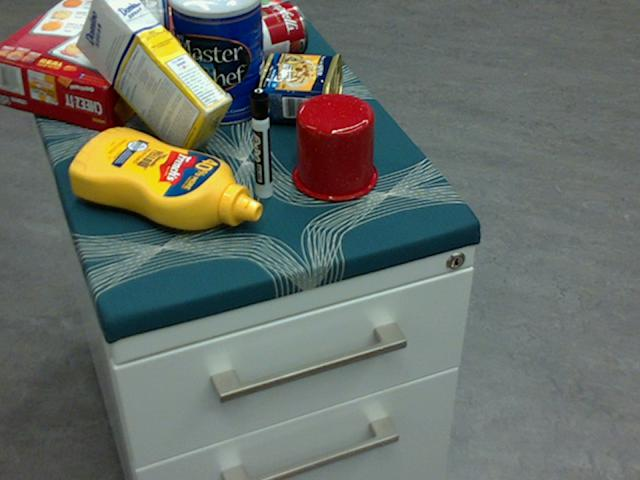cracker_box: (0, 0, 200, 134)
gelatin_box: (214, 0, 285, 38)
large_marker: (250, 88, 271, 196)
master_chef_can: (168, 0, 264, 125)
mug: (289, 92, 376, 201)
mustard_bottle: (68, 128, 262, 229)
potted_meat_can: (257, 50, 341, 128)
sugar_box: (77, 0, 234, 160)
tomato_soup_can: (212, 0, 308, 71)
tuna_fish_can: (126, 0, 168, 56)
